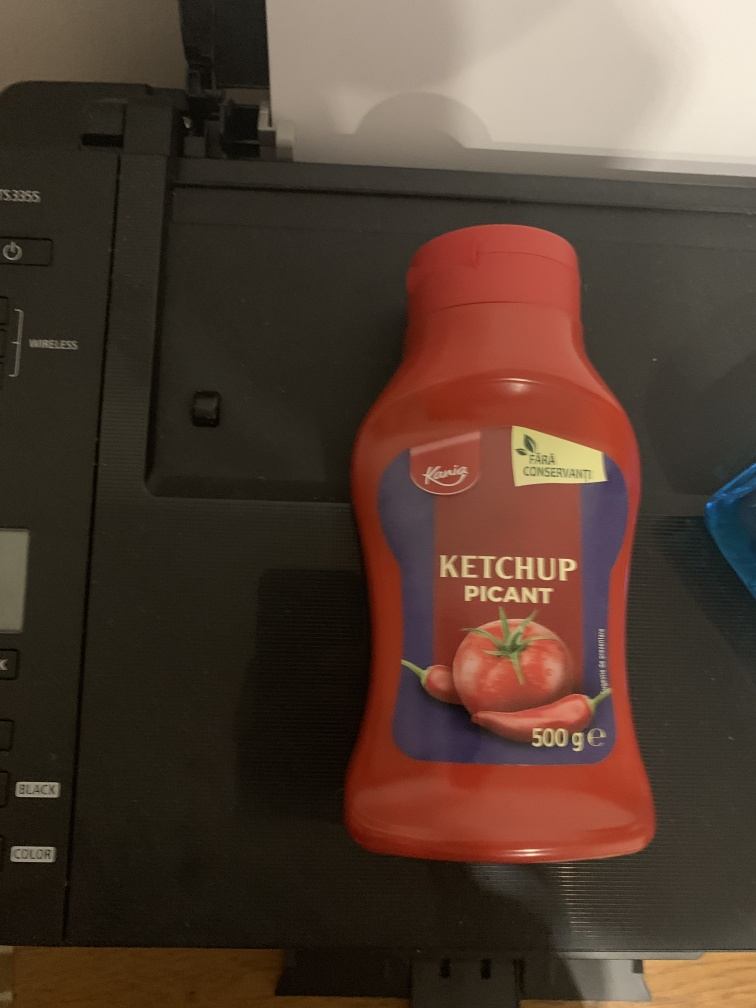ketchup: (336, 220, 663, 862)
